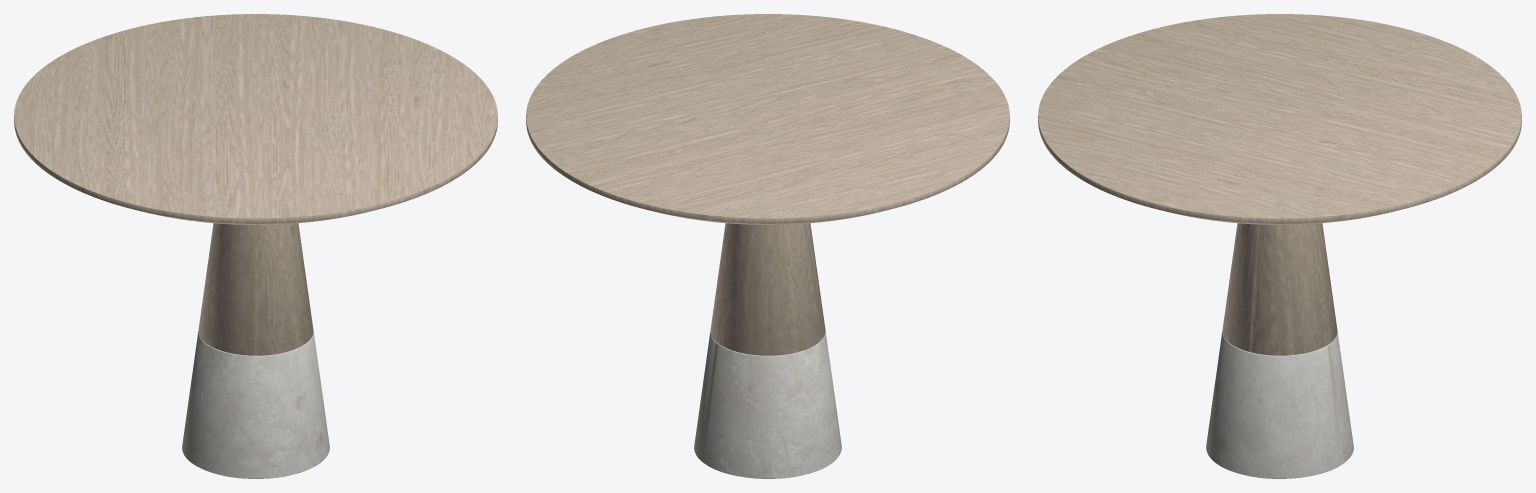
File: table_round.gltf
3 views of the same model, side by side, from view 1: azimuth 30°, elevation 25°; view 2: azimuth 150°, elevation 25°; view 3: azimuth 270°, elevation 25° (orthographic).
Parts seen in each view (by area): view 1: Material2, Material2.002; view 2: Material2, Material2.002; view 3: Material2, Material2.002.
Boxes of the visible parts, left/top/right/bottom form: Material2: left=14, top=14, right=497, bottom=355; Material2.002: left=182, top=332, right=329, bottom=478; Material2: left=526, top=14, right=1009, bottom=355; Material2.002: left=694, top=332, right=841, bottom=478; Material2: left=1038, top=14, right=1521, bottom=355; Material2.002: left=1206, top=332, right=1353, bottom=478.
Bounding box in the file's own units: 0.9835 × 0.748 × 0.9835.
2 materials, 2 textured.
